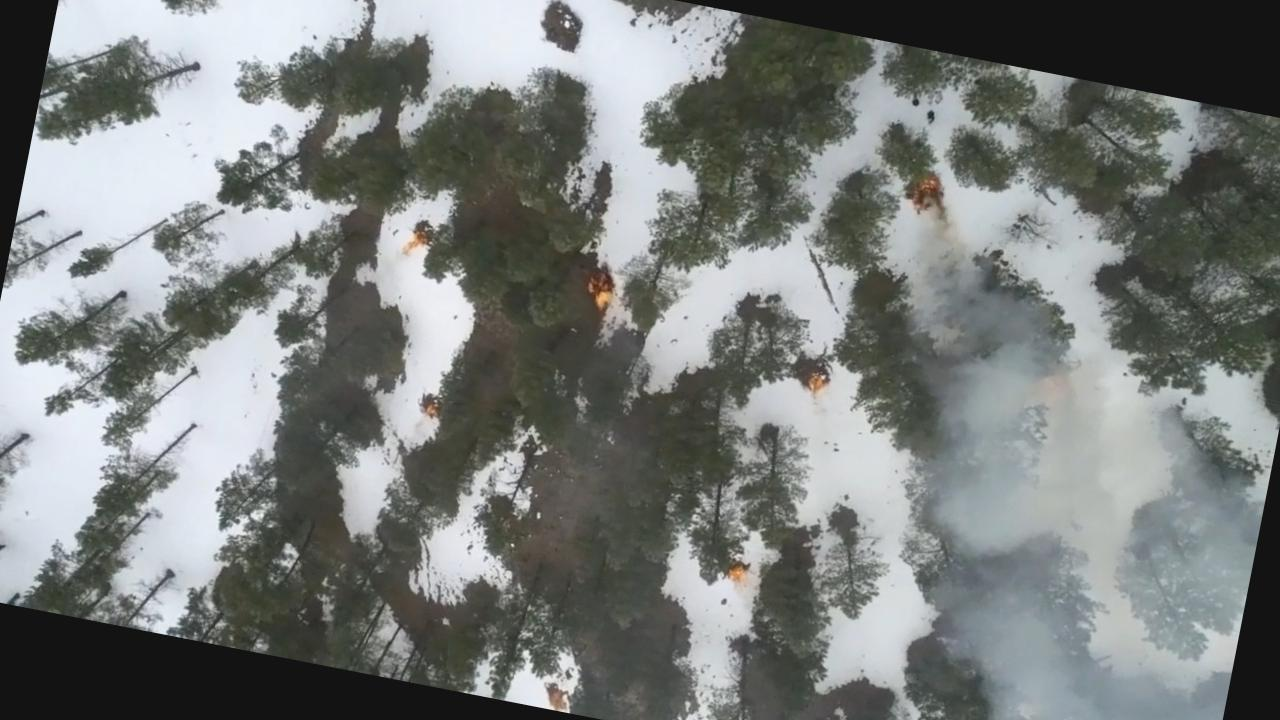fire: (582, 258, 631, 318), (900, 170, 955, 218), (798, 364, 835, 402), (720, 555, 754, 592)
smoke: (886, 302, 1280, 603), (886, 543, 1244, 720)
